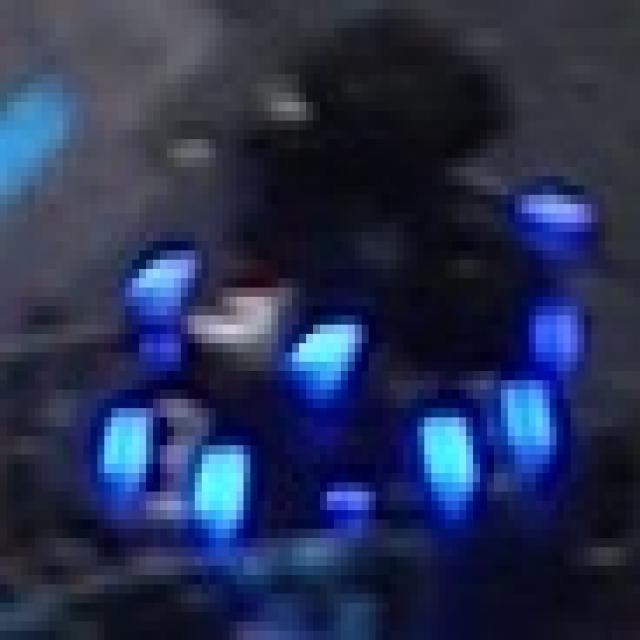B3: (104, 223, 362, 380), (97, 380, 250, 520)
